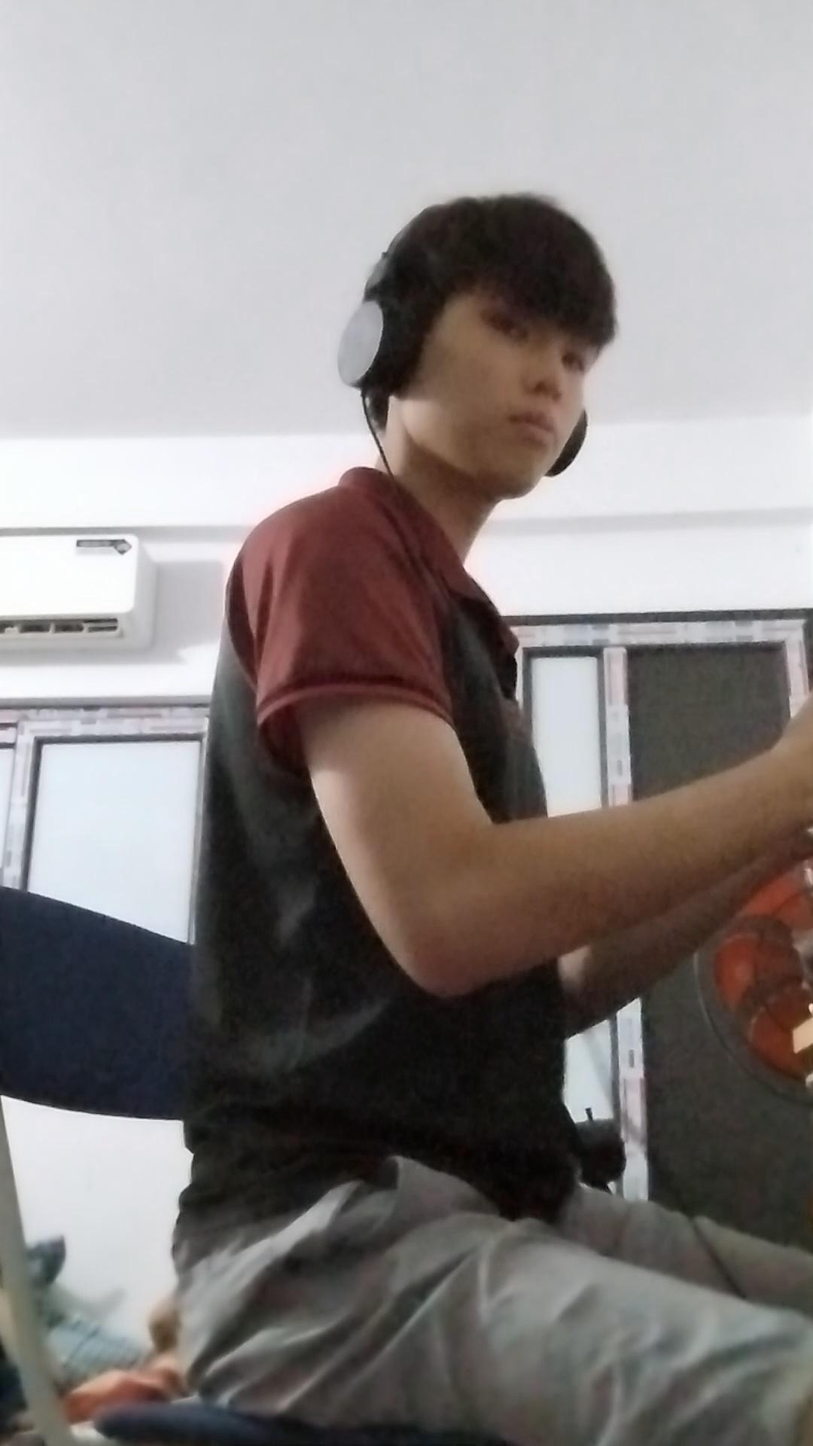GoodPosture: (172, 194, 812, 1445), (187, 194, 615, 1217)
